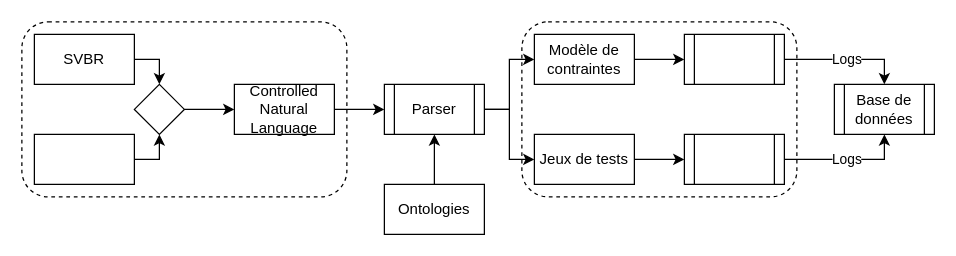
Image size: 956x256. Some labels were removed from this diagram. Here are the shapes that lost their labels. From the top down, the box of each, then its label:
(683, 33, 784, 84): Solver
(33, 133, 134, 184): Français Formel
(683, 133, 784, 184): Runtime
